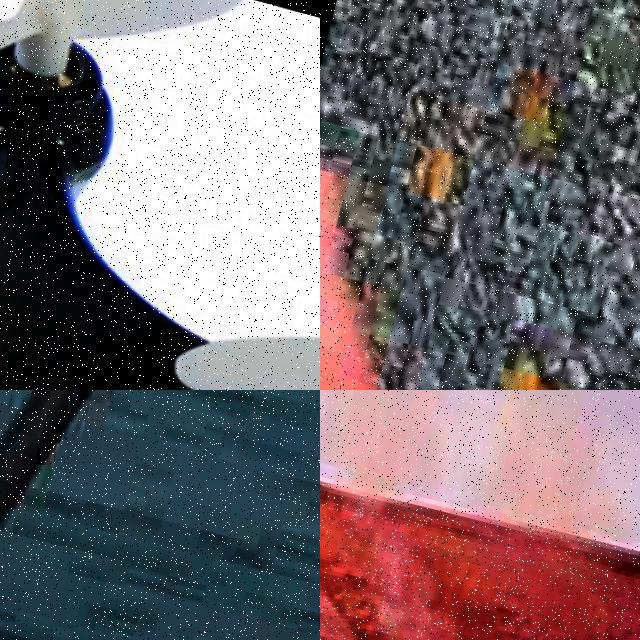drone: (0, 0, 320, 390)
